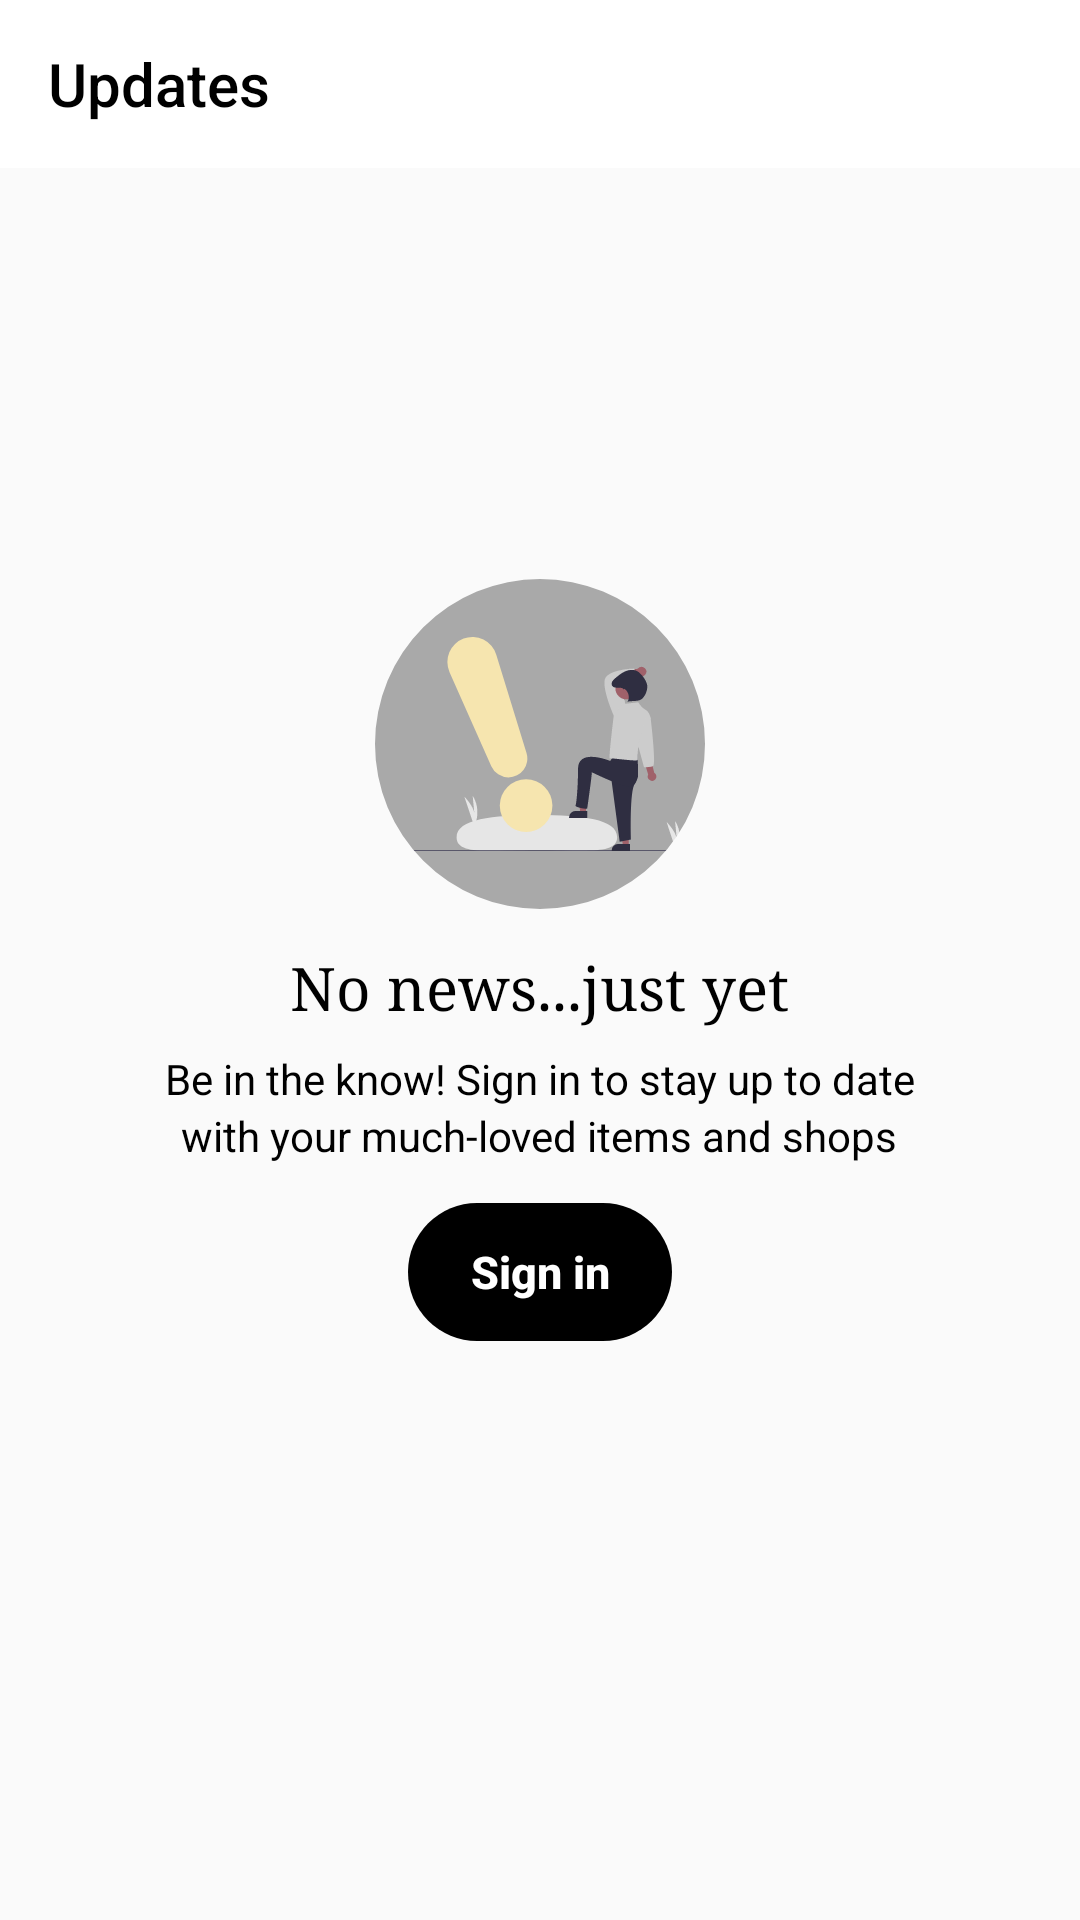

Point at icon controls on the screen. Image size 1080×1920, points as (x=x, y=y).
updates art: (x=540, y=744)
